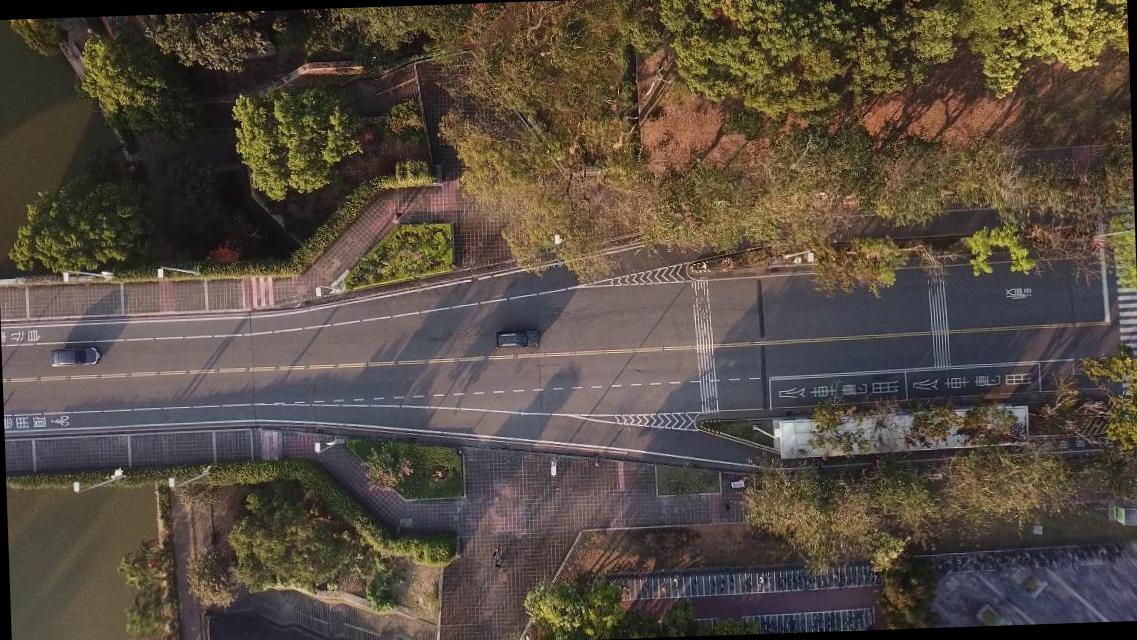vehicle: (49, 346, 100, 366), (493, 328, 540, 349)
